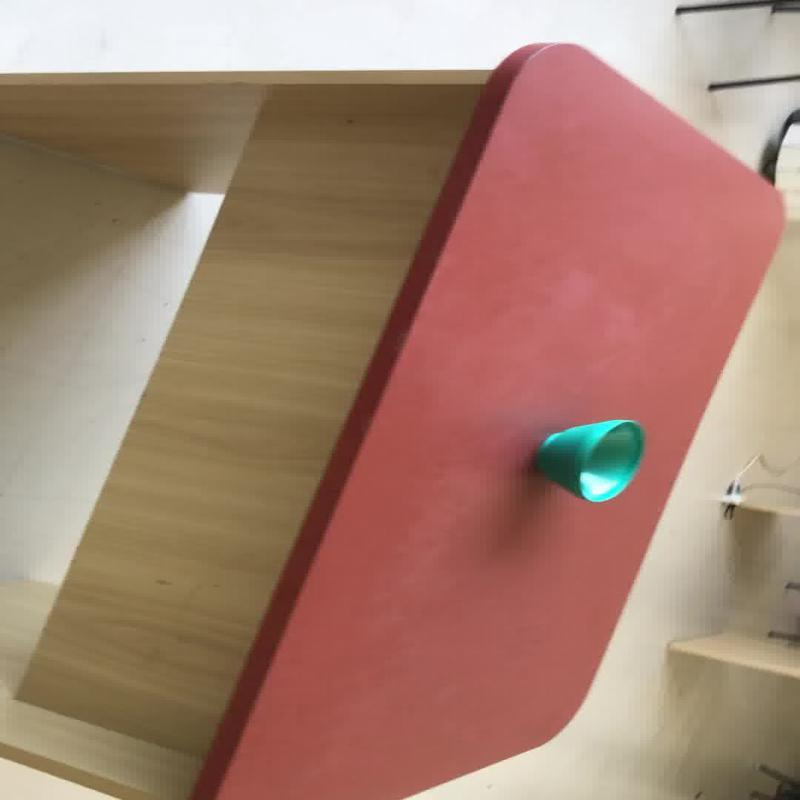bowl: (3, 38, 790, 798), (533, 418, 645, 502)
